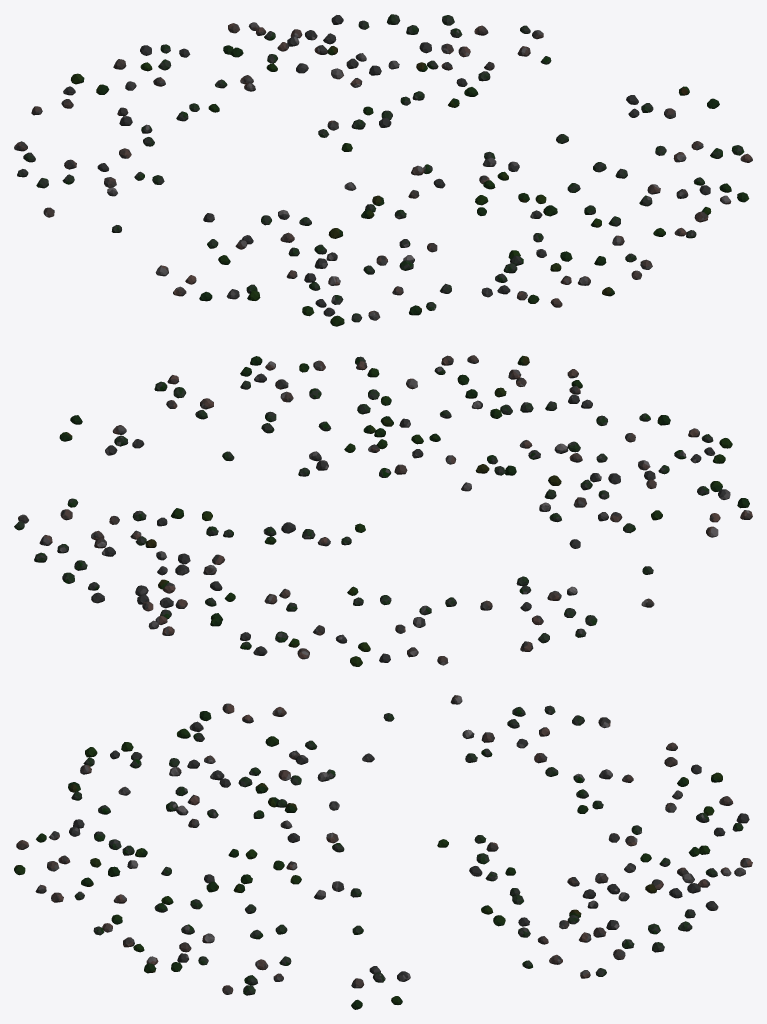
Rendered from Rocks Export.glb.
The picture shows the model from 3 angles, top to bottom: view 1: azimuth 30°, elevation 25°; view 2: azimuth 150°, elevation 25°; view 3: azimuth 270°, elevation 25°; orthographic projection.
Visible parts, largest first — view 1: Plane.003; view 2: Plane.003; view 3: Plane.003.
Part boxes in pixels (x1,y1,x2,y2): Plane.003: [14, 14, 752, 326]; Plane.003: [14, 355, 752, 666]; Plane.003: [14, 695, 752, 1009].
Size of the model in its own units: 776 by 30.52 by 794.
Materials: 1 (1 with a texture image).
